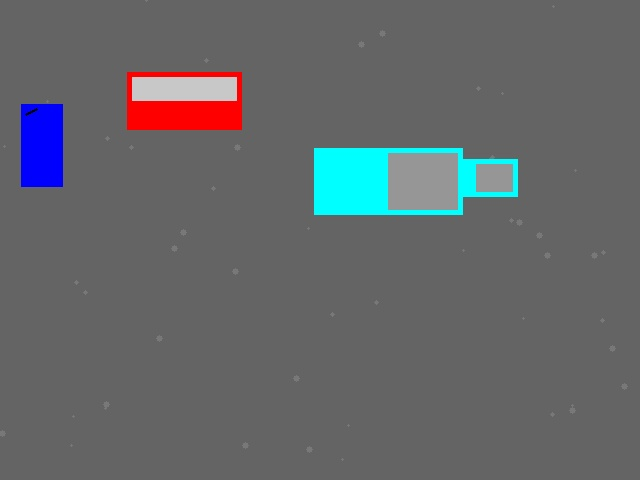car: (127, 72, 241, 129)
motorcycle: (21, 104, 62, 186)
truck: (314, 148, 462, 214), (435, 159, 517, 196)
